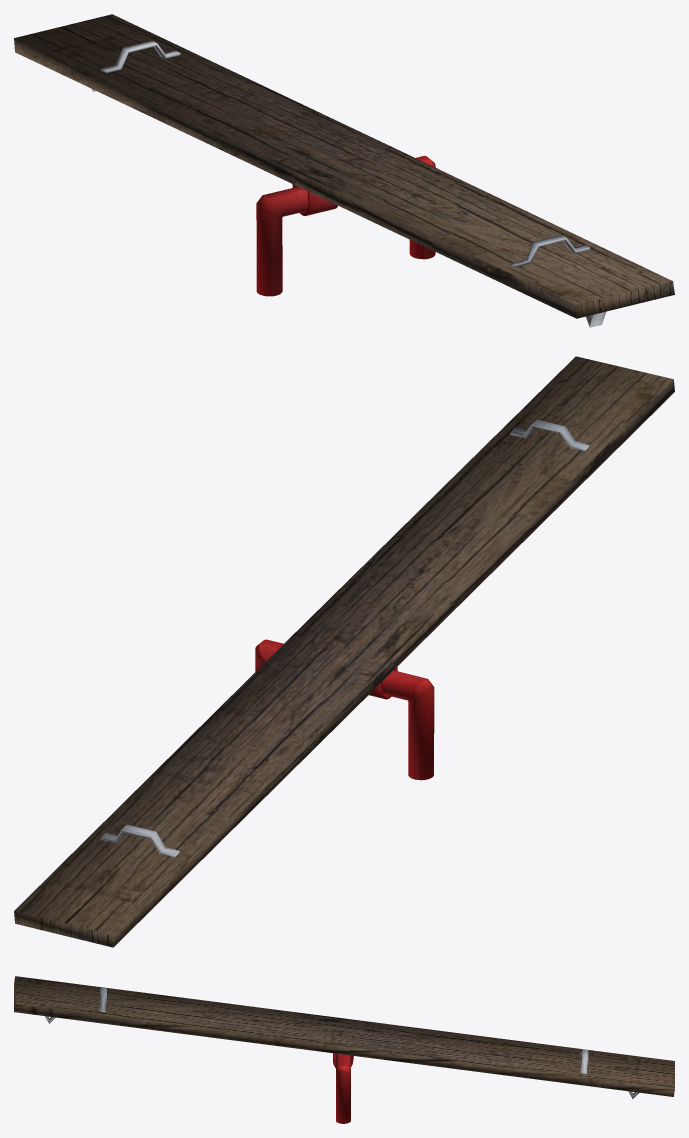
Rendered from seesaw.fbx.
3 renders of one model, top to bottom at view 1: azimuth 30°, elevation 25°; view 2: azimuth 150°, elevation 25°; view 3: azimuth 270°, elevation 25°, orthographic. The views are drawn at different scales.
Visible parts, largest first — view 1: Cylinder; view 2: Cylinder; view 3: Cylinder.
Part boxes in pixels (x1=…): Cylinder: x1=14, y1=14, x2=674, y2=327; Cylinder: x1=14, y1=356, x2=674, y2=947; Cylinder: x1=14, y1=976, x2=674, y2=1123.
Bounding box in the file's own units: 2.13 × 2.14 × 11.81.
